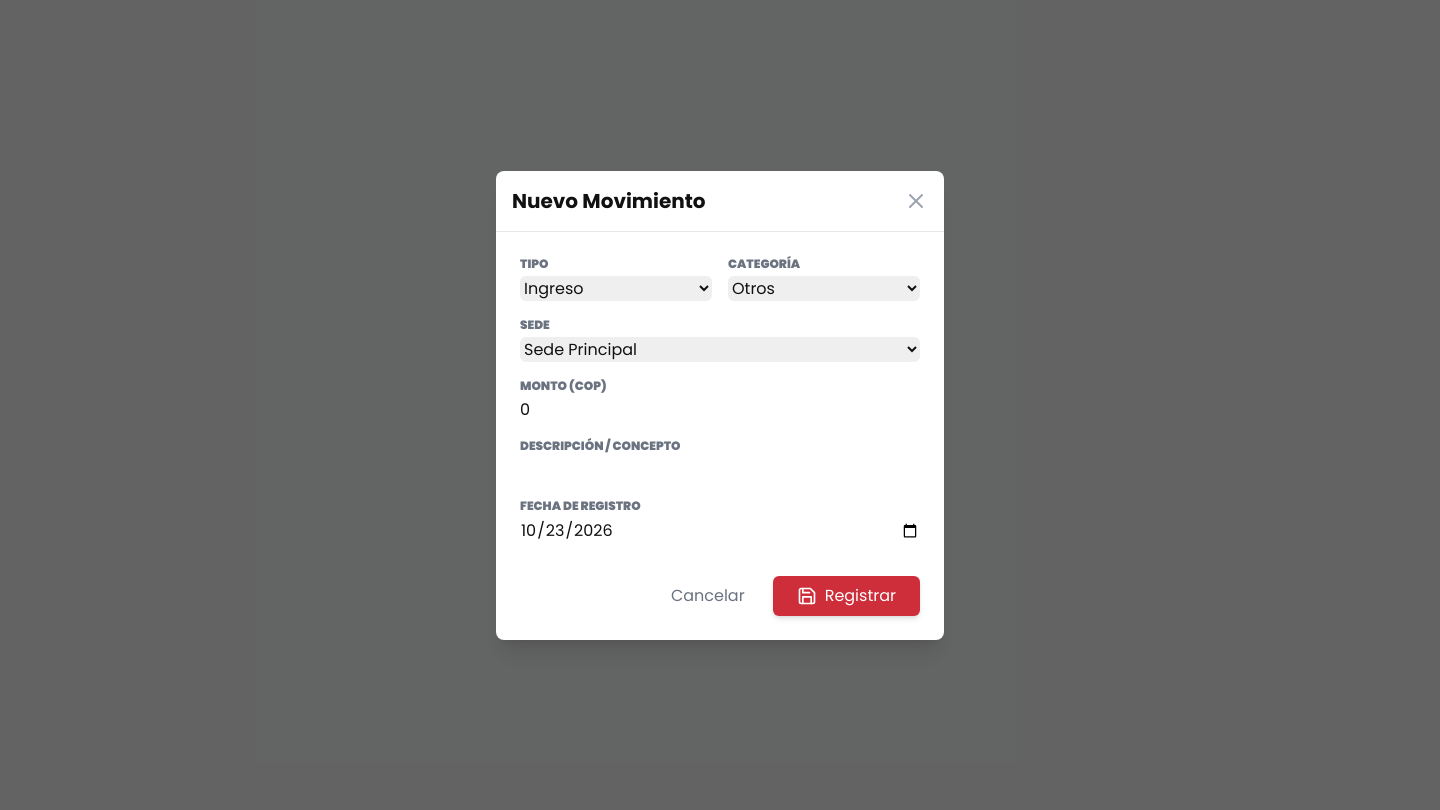
Test: FormularioMovimiento › muestra error de categoría personalizada cuando se selecciona la opción de nueva categoría pero queda vacía
The width and height of the screenshot is (1440, 810).
Select "+ Nueva Categoría..." in the dropdown named "categoria" below "Categoría" at [824, 288], box [728,276,920,300]
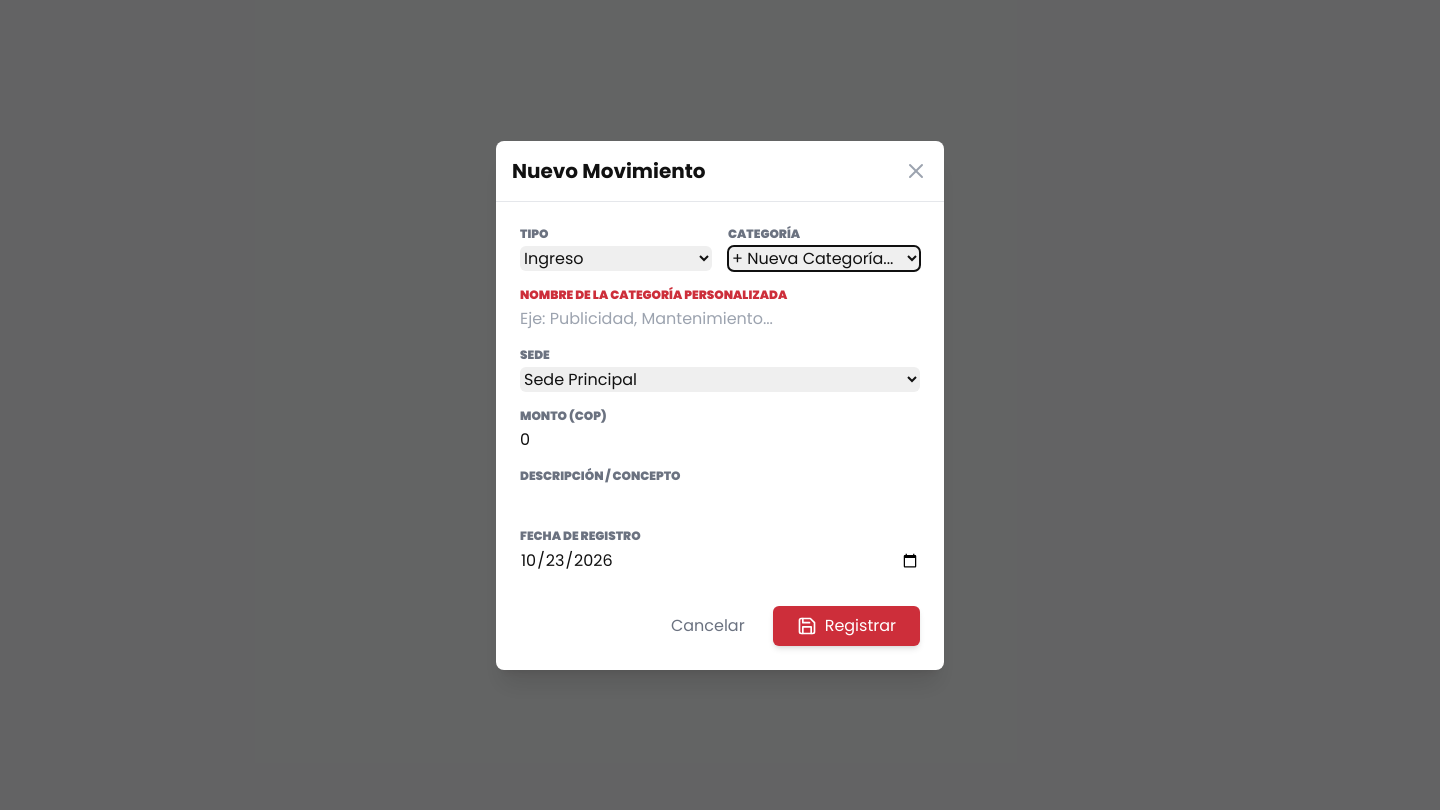
Check: the field named "categoriaNueva" is shown, box [520,306,920,330]
Click the button "Registrar" at [846, 626], box [773,606,920,646]
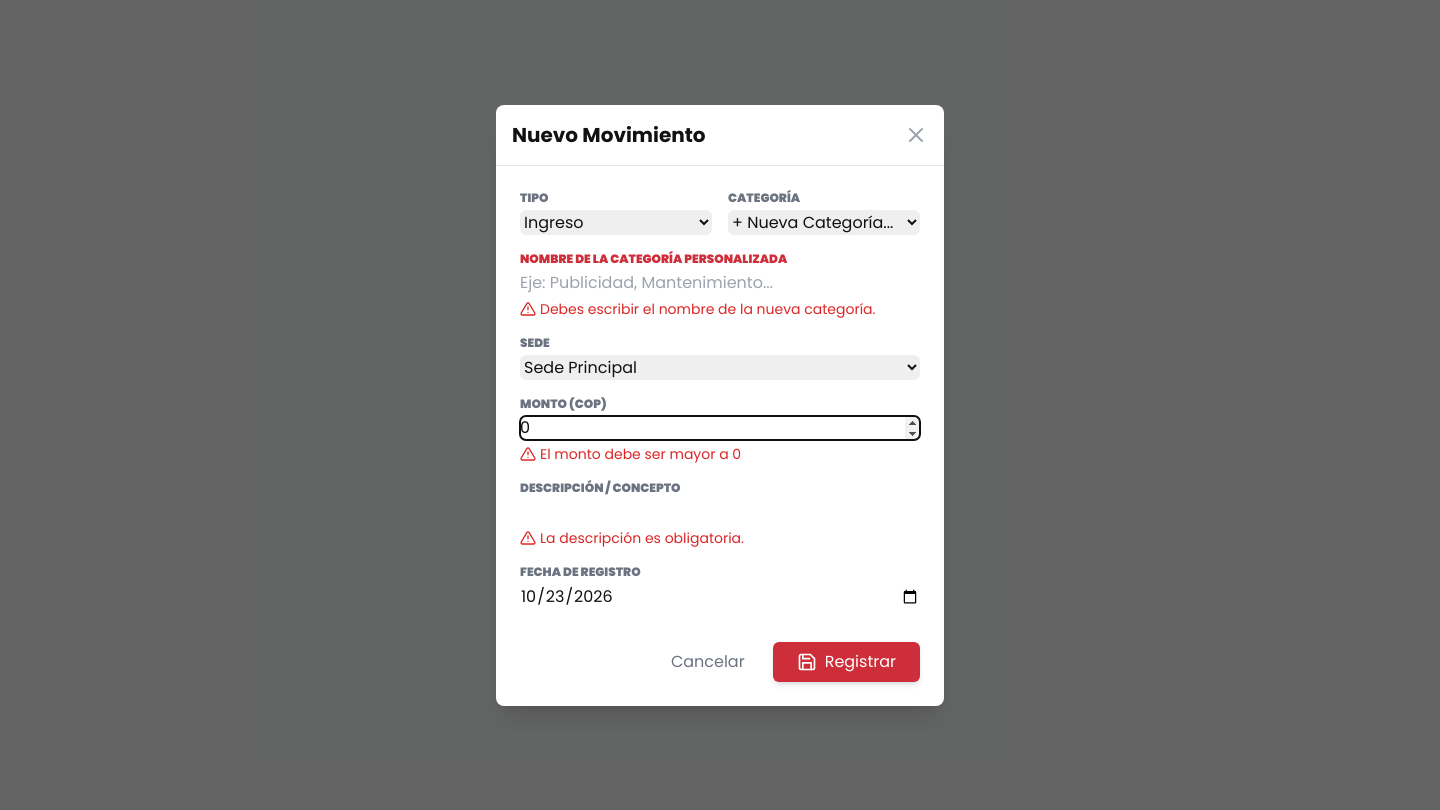
Check: the text "Debes escribir el nombre de la nueva categoría." is shown, box [540,298,876,318]
